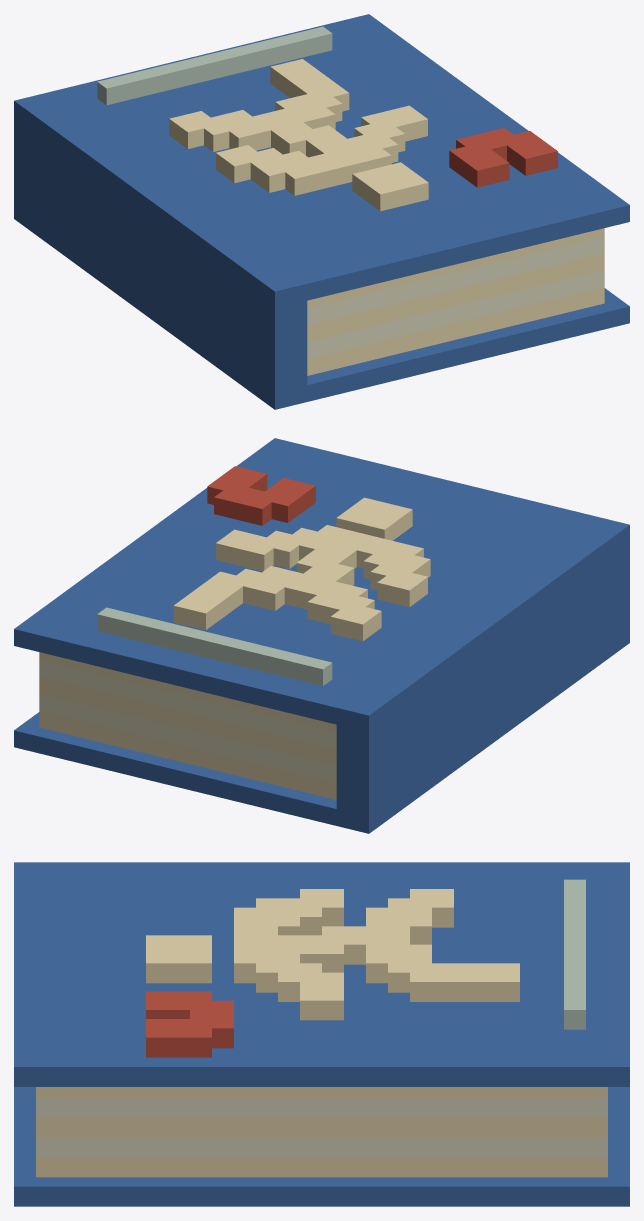
Rendered from voxel_32_20066.glb.
3 renders of one model, top to bottom at view 1: azimuth 30°, elevation 25°; view 2: azimuth 150°, elevation 25°; view 3: azimuth 270°, elevation 25°, orthographic. The views are drawn at different scales.
Parts seen in each view (by area): view 1: prop_20066; view 2: prop_20066; view 3: prop_20066.
Boxes of the visible parts, x1,y1,x2,y2 form: prop_20066: (14, 14, 629, 409); prop_20066: (14, 438, 629, 833); prop_20066: (14, 862, 629, 1206).
Size of the model in its own units: 0.5706 by 0.2075 by 0.7262.
